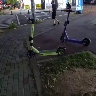beam: (59, 8, 94, 47)
gcooter: (25, 17, 69, 58)
